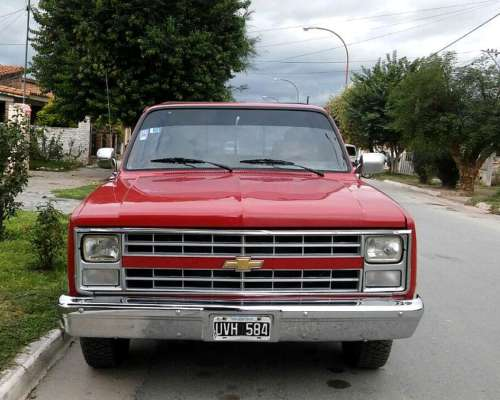car: (59, 100, 423, 377)
